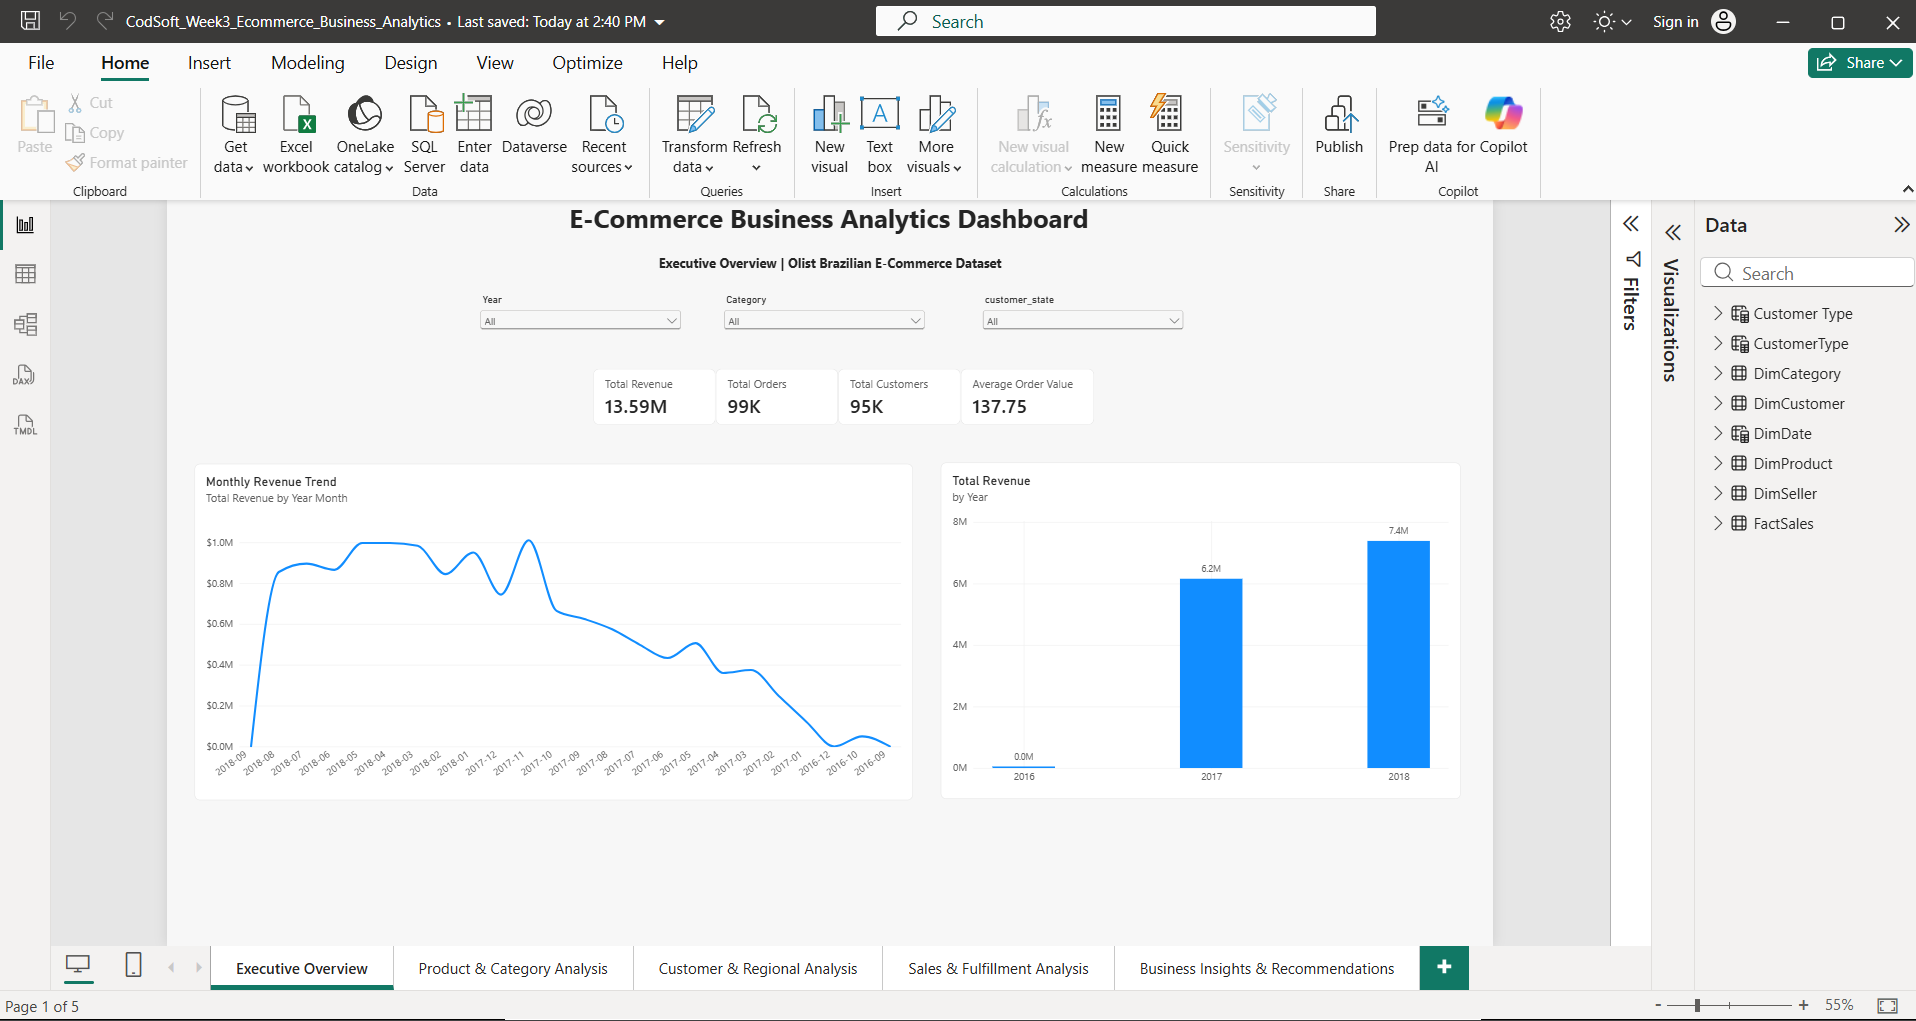

What the dashboard file says about the page in this screenshot:
{"tool":"powerbi","page":{"name":"Executive Overview","canvas":[1920,1080],"ordinal":0},"visuals":[{"type":"textbox","box":[537.5,0,841.5,65.1],"z":0},{"type":"textbox","box":[669.6,77.8,580.9,34.4],"z":1000},{"type":"cardVisual","fields":{"Data":["FactSales.Total Revenue"]},"box":[617.1,243.9,177.3,81.4],"z":2000},{"type":"cardVisual","fields":{"Data":["FactSales.Total Orders"]},"box":[794.4,243.9,177.3,81.4],"z":3000},{"type":"cardVisual","fields":{"Data":["FactSales.Total Customers"]},"box":[971.8,243.9,177.3,81.4],"z":4000},{"type":"cardVisual","fields":{"Data":["FactSales.Average Order Value"]},"box":[1149.1,243.9,193.6,81.4],"z":5000},{"type":"lineChart","title":"Monthly Revenue Trend","fields":{"Category":["DimDate.Year Month"],"Y":["FactSales.Total Revenue"]},"box":[40,382.5,1040,487.5],"z":6000},{"type":"clusteredColumnChart","fields":{"Category":["DimDate.Year"],"Y":["FactSales.Total Revenue"]},"box":[1120,380,752.5,487.5],"z":7000},{"type":"slicer","fields":{"Values":["DimDate.Year"]},"box":[448.6,136.6,300,78.6],"z":8000},{"type":"slicer","fields":{"Values":["FactSales.Category"]},"box":[801.4,135.7,300,78.6],"z":9000},{"type":"slicer","fields":{"Values":["FactSales.customer_state"]},"box":[1175.7,135.7,300,78.6],"z":10000}]}

Visuals, with their boxes on the page's 1920x1080 design canvas (x1, y1, x2, y2). These are canvas units, not pixel positions in the 1916x1021 screenshot, which may show the page scaled, cropped or inside an application window:
textbox: (538, 0, 1379, 65)
textbox: (670, 78, 1250, 112)
cardVisual - FactSales.Total Revenue: (617, 244, 794, 325)
cardVisual - FactSales.Total Orders: (794, 244, 972, 325)
cardVisual - FactSales.Total Customers: (972, 244, 1149, 325)
cardVisual - FactSales.Average Order Value: (1149, 244, 1343, 325)
"Monthly Revenue Trend" lineChart: (40, 382, 1080, 870)
clusteredColumnChart - DimDate.Year x FactSales.Total Revenue: (1120, 380, 1872, 868)
slicer - DimDate.Year: (449, 137, 749, 215)
slicer - FactSales.Category: (801, 136, 1101, 214)
slicer - FactSales.customer_state: (1176, 136, 1476, 214)
